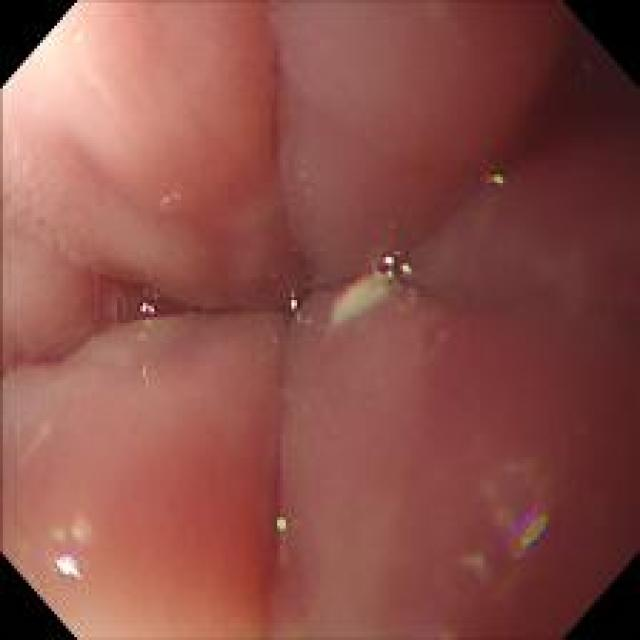bubbles: (159, 182, 182, 218)
color misalignment: (511, 502, 549, 560), (480, 476, 514, 530), (502, 450, 541, 481), (376, 249, 411, 280), (268, 512, 298, 536), (484, 164, 509, 190), (139, 298, 156, 326)
contrast: (505, 15, 634, 168)
saturation: (49, 551, 85, 584)
specularity: (288, 289, 299, 311)
